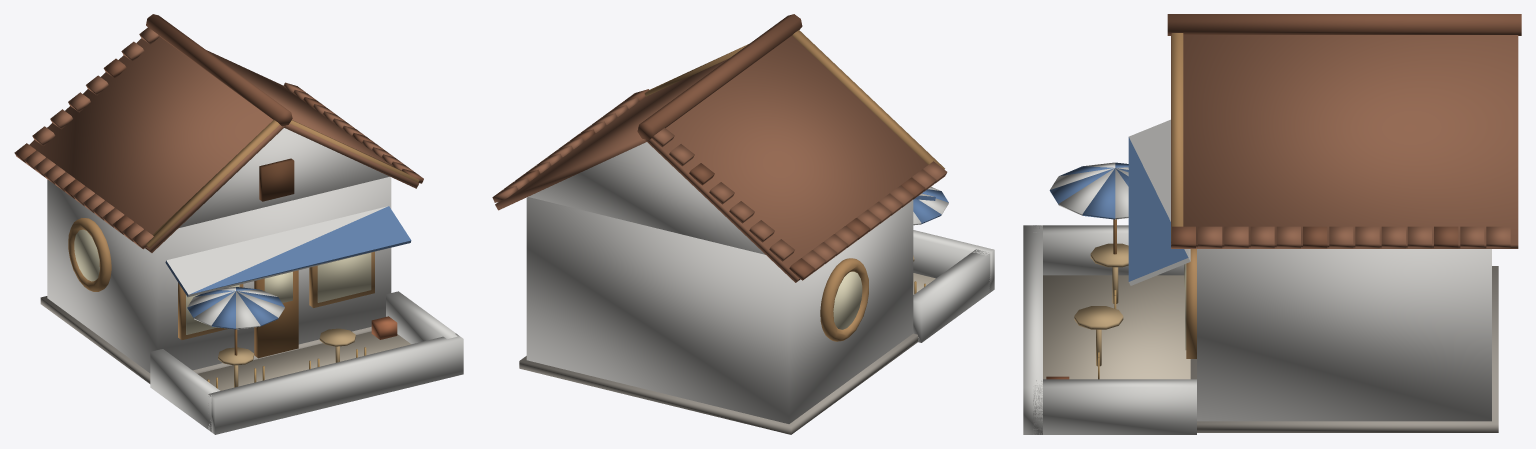
The model's file is cafe.glb.
3 views of the same model, side by side, from view 1: azimuth 30°, elevation 25°; view 2: azimuth 150°, elevation 25°; view 3: azimuth 270°, elevation 25° (orthographic). The views are drawn at different scales.
Visible parts, largest first — view 1: cafe; view 2: cafe; view 3: cafe.
Part boxes in pixels (x1,y1,x2,y2): cafe: (14,14,463,434); cafe: (492,14,994,434); cafe: (1023,14,1521,434).
Bounding box in the file's own units: 2.64 × 2.29 × 3.04.
